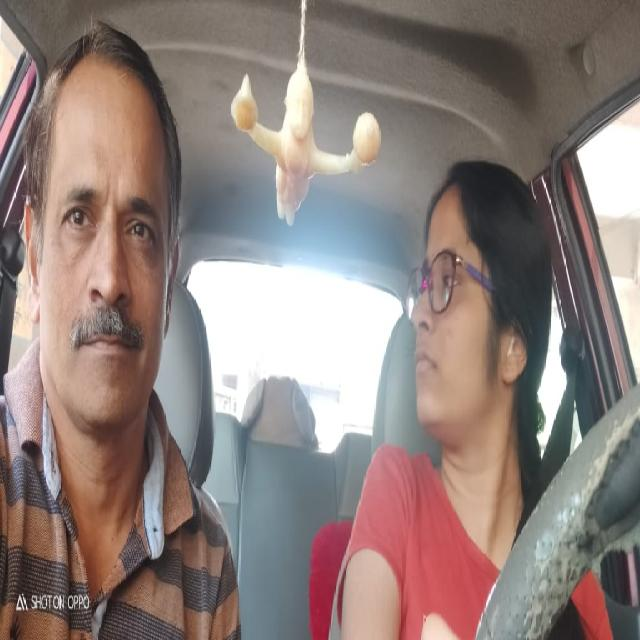LeftRight: (397, 116, 558, 477)
person: (19, 18, 196, 466)
